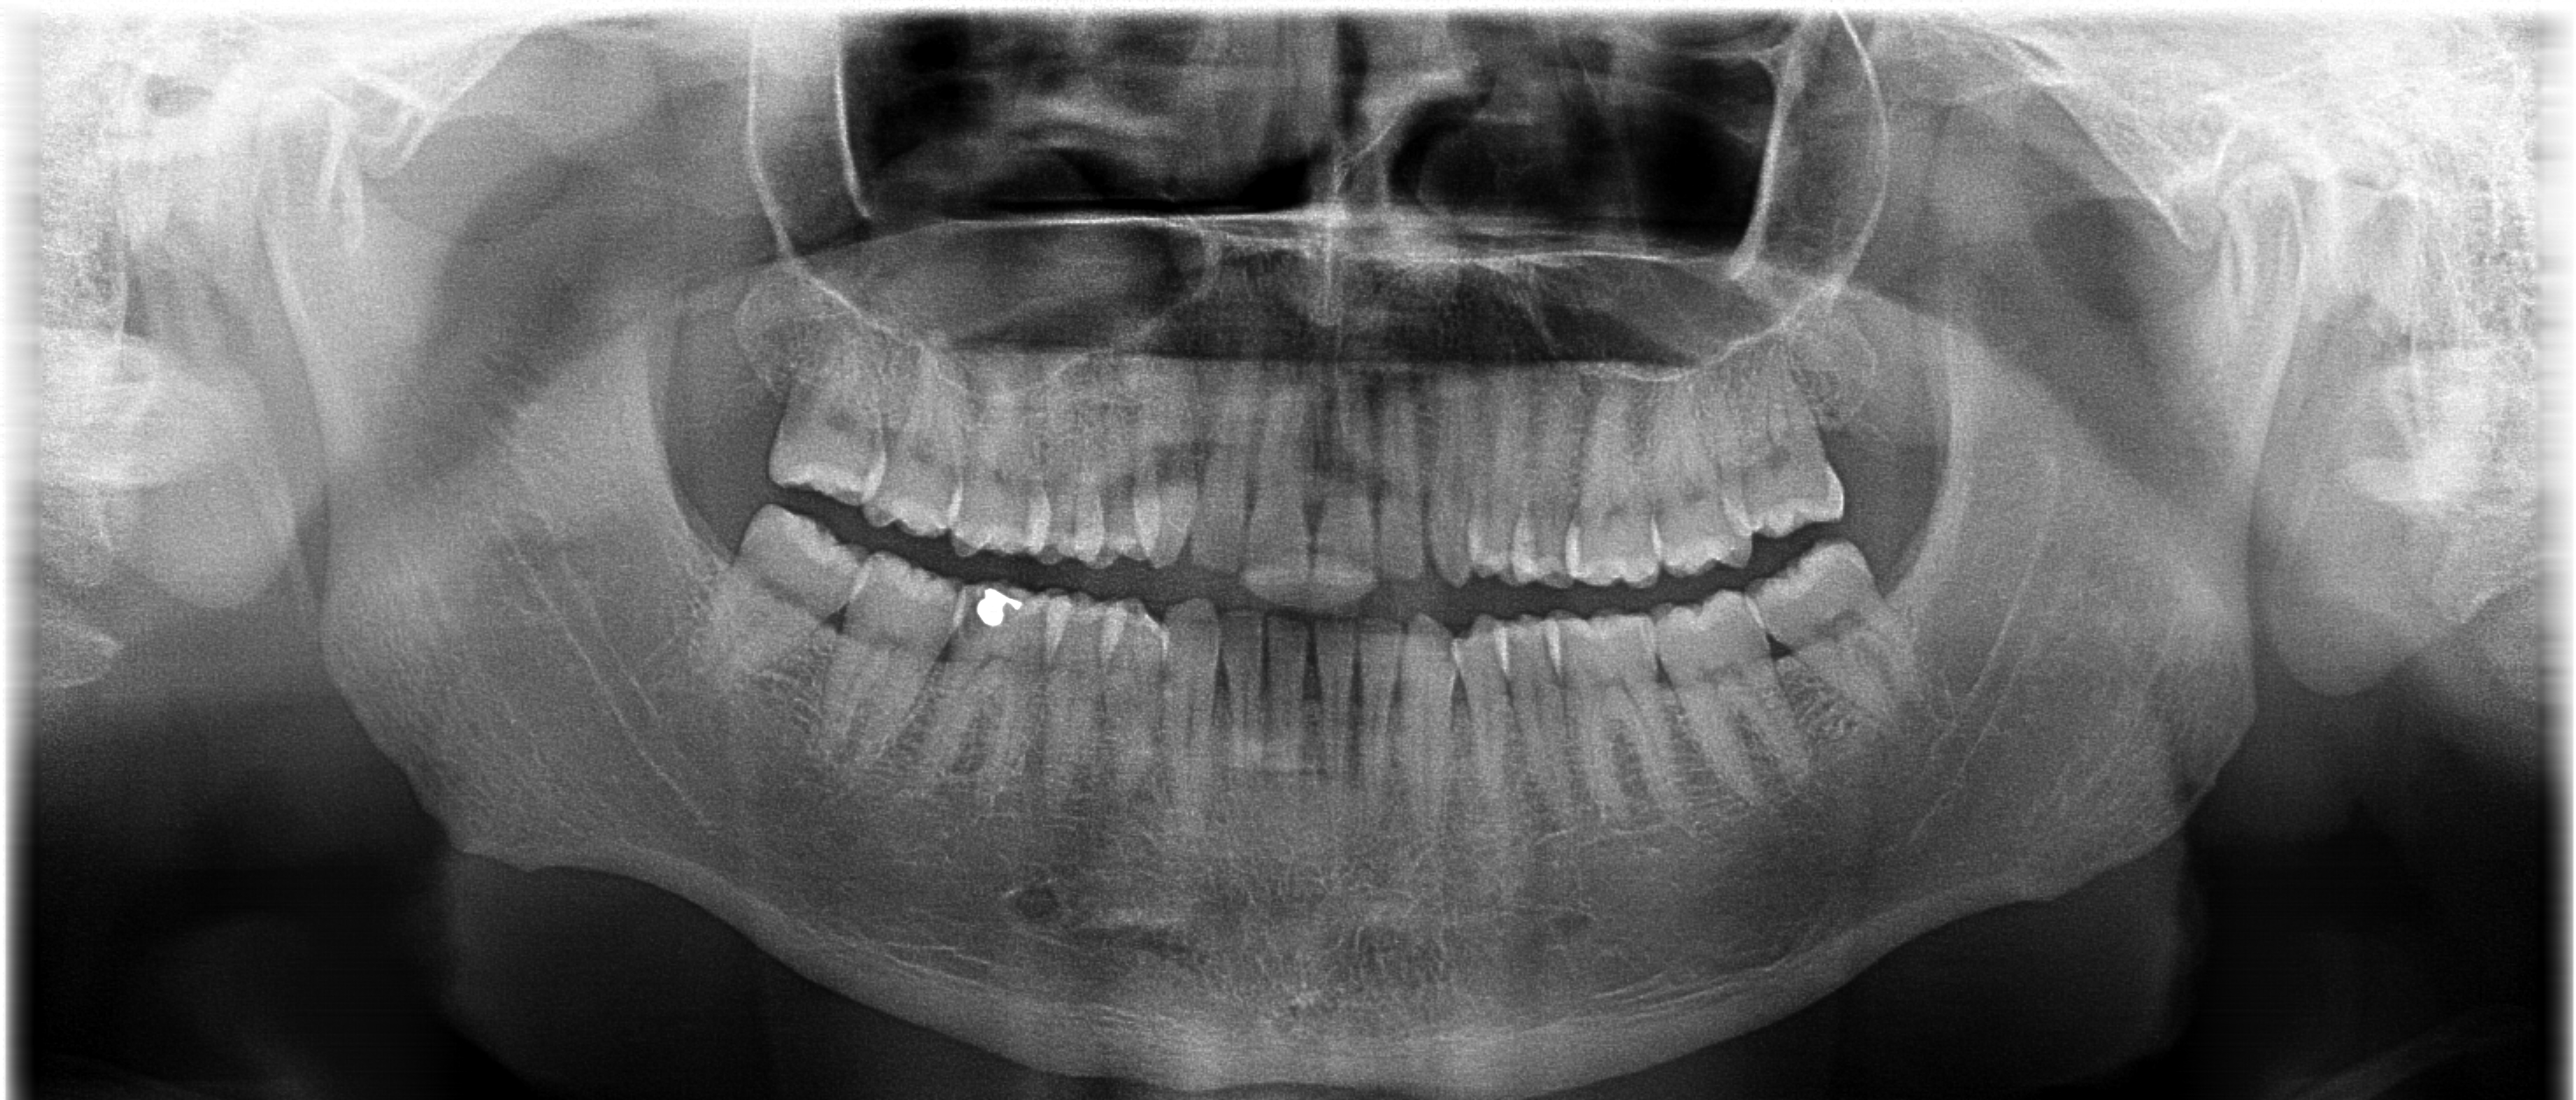cordal: (1710, 332, 1940, 563), (651, 481, 879, 711), (1723, 517, 1952, 747), (703, 317, 931, 547)
dientes_sanos: (596, 259, 2037, 844)
